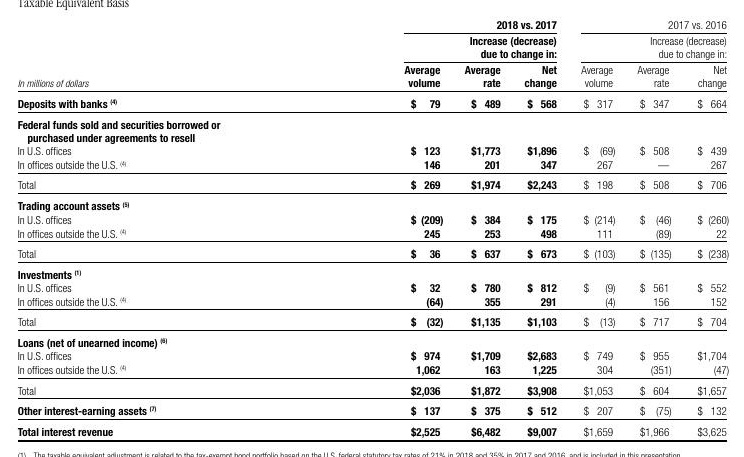table: (0, 0, 744, 457)
